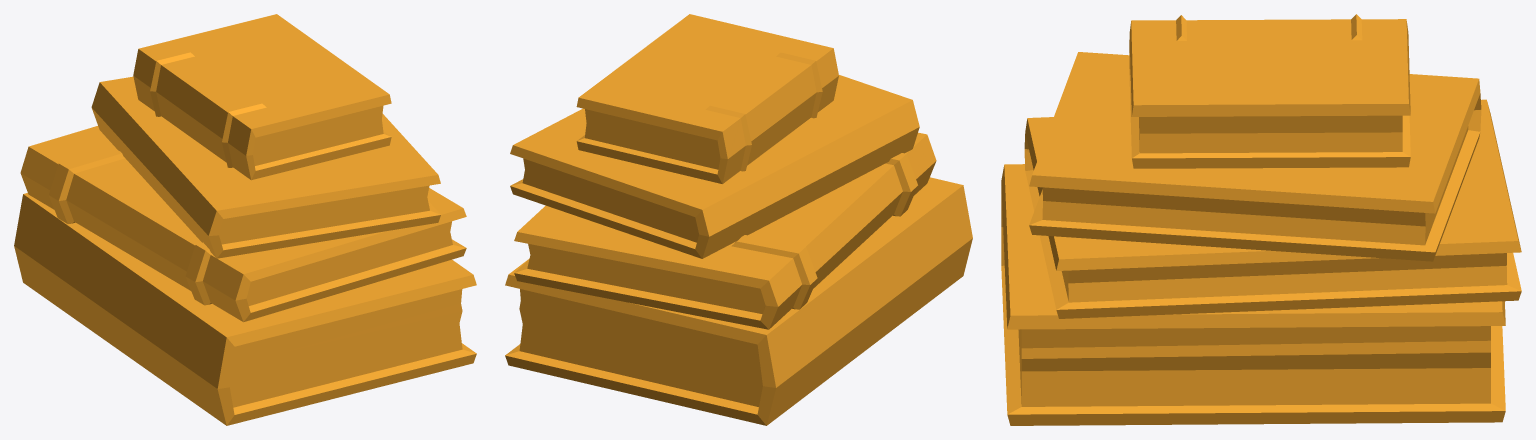
Rendered from SM_Book_Pile_A.fbx.
3 views of the same model, side by side, from view 1: azimuth 30°, elevation 25°; view 2: azimuth 150°, elevation 25°; view 3: azimuth 270°, elevation 25° (orthographic). The views are drawn at different scales.
Visible parts, largest first — view 1: book-pile-a; view 2: book-pile-a; view 3: book-pile-a.
Boxes of the visible parts, <box> form: book-pile-a: <box>14,14,476,425</box>; book-pile-a: <box>505,14,972,425</box>; book-pile-a: <box>1001,14,1521,425</box>.
Size of the model in its own units: 0.5296 by 0.4351 by 0.6758.
